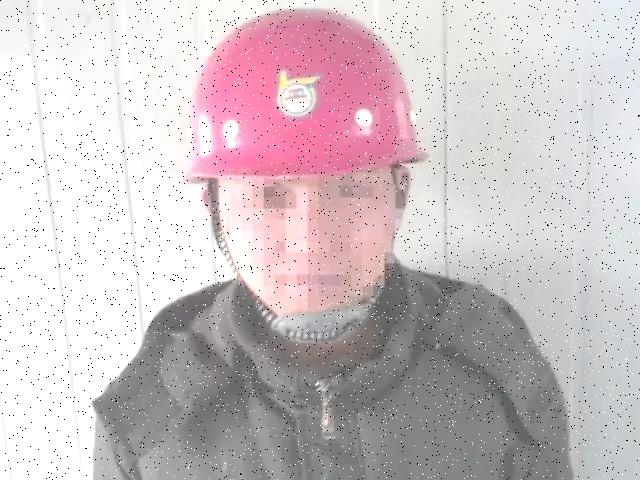Helmet: (176, 0, 432, 196)
